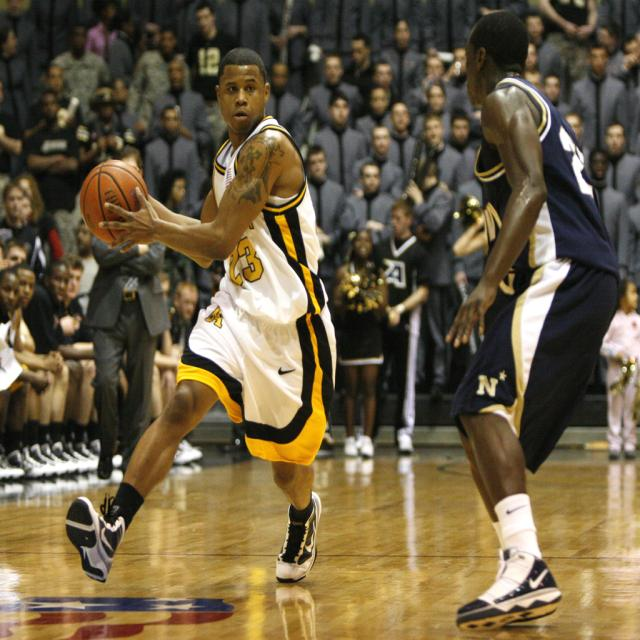Ball: (77, 161, 152, 244)
